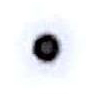cancer: (10, 11, 89, 84)
